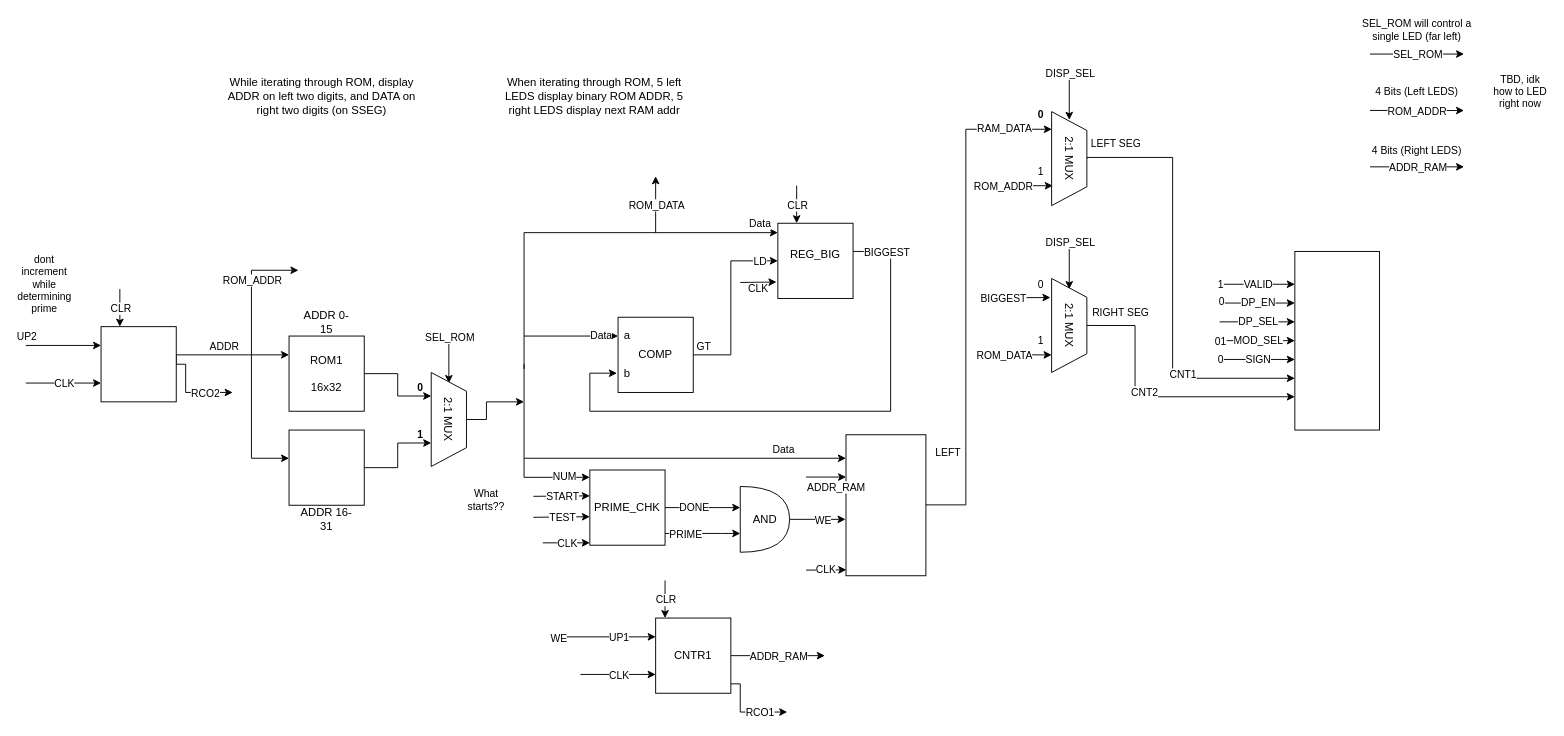
The diagram is 1564 pixels wide and 736 high, and some of its shapes have lost their labels. The shapes that lost their labels are listed below. From the top down, each one's centre as x and y in pixels, then its label:
point (1336, 340): SSEG
point (138, 364): CNTR2
point (326, 467): ROM2 16x32
point (885, 505): RAM 32x32
